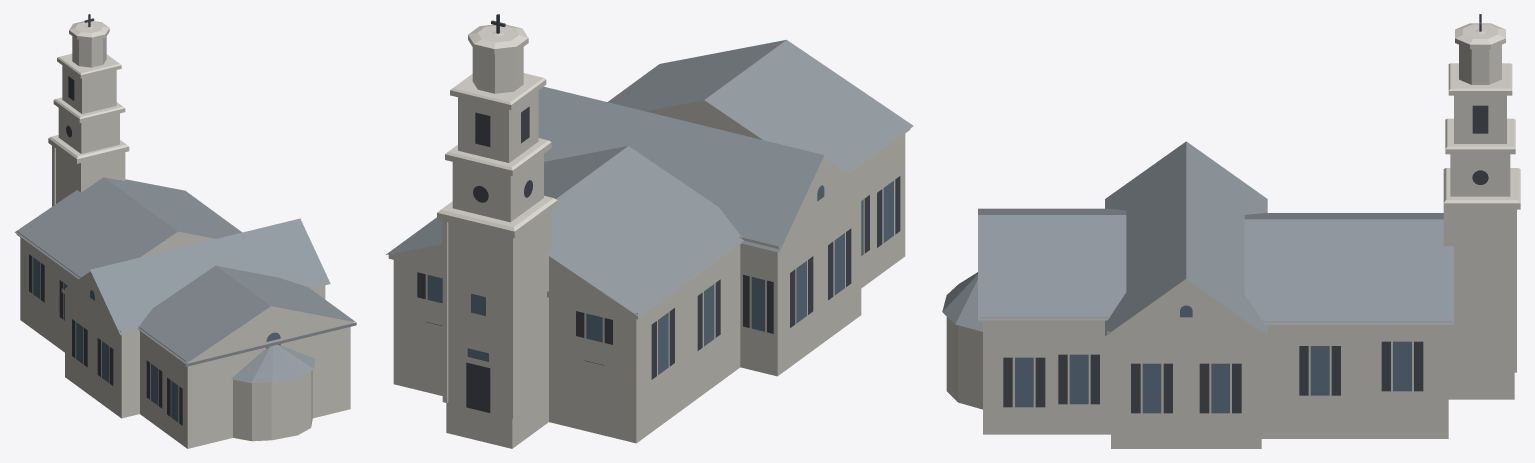
File: ric-st-johns-church.glb
3 views of the same model, side by side, from view 1: azimuth 30°, elevation 25°; view 2: azimuth 150°, elevation 25°; view 3: azimuth 270°, elevation 25° (orthographic). The views are drawn at different scales.
Visible parts, largest first — view 1: St. John's Church; view 2: St. John's Church; view 3: St. John's Church.
Part boxes in pixels (x1,y1,x2,y2): St. John's Church: (14, 14, 356, 448); St. John's Church: (386, 14, 913, 448); St. John's Church: (942, 14, 1520, 448).
Size of the model in its own units: 18.95 by 23.85 by 33.74.
